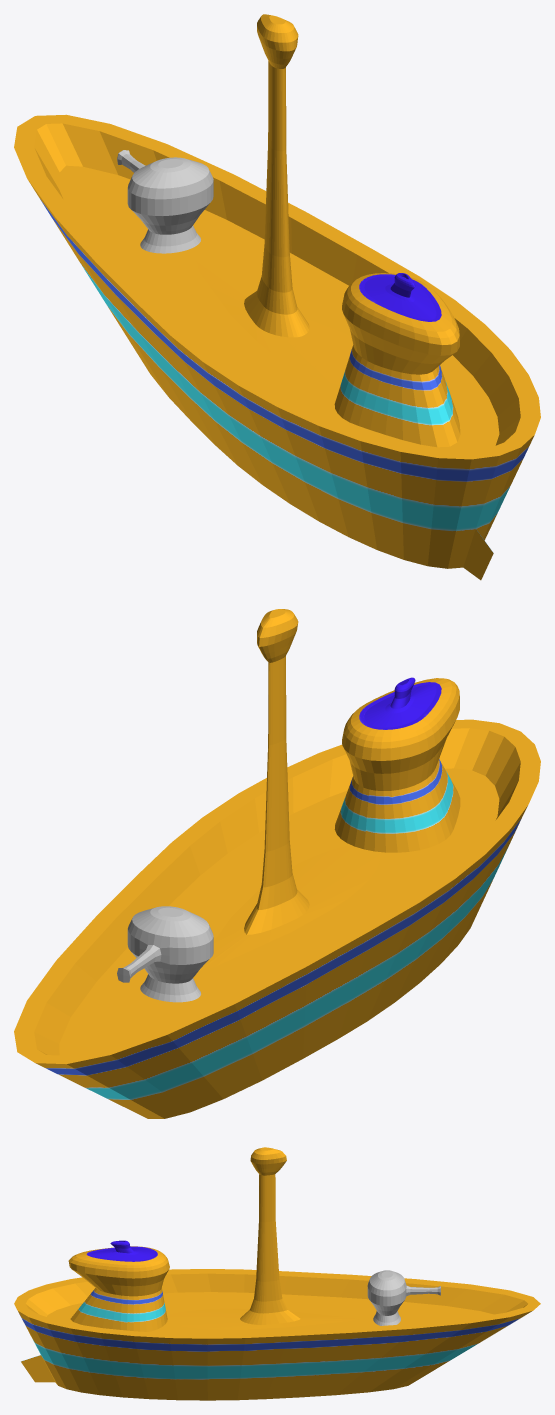
The model's file is Ship(Cruiser).fbx.
The picture shows the model from 3 angles, top to bottom: view 1: azimuth 30°, elevation 25°; view 2: azimuth 150°, elevation 25°; view 3: azimuth 270°, elevation 25°; orthographic projection. The views are drawn at different scales.
Visible parts, largest first — view 1: Cylinder, Cylinder.001, Cylinder.002; view 2: Cylinder, Cylinder.001, Cylinder.002; view 3: Cylinder, Cylinder.001, Cylinder.002.
Part boxes in pixels (x1,y1,x2,y2): Cylinder: (14, 14, 540, 580); Cylinder.001: (334, 273, 460, 447); Cylinder.002: (117, 150, 213, 253); Cylinder: (14, 609, 540, 1118); Cylinder.001: (334, 677, 460, 852); Cylinder.002: (117, 906, 213, 1002); Cylinder: (14, 1147, 540, 1400); Cylinder.001: (68, 1240, 169, 1331); Cylinder.002: (367, 1270, 440, 1325).
Bounding box in the file's own units: 386 × 600 × 1229.
